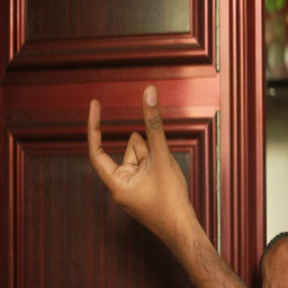U: (82, 79, 175, 209)
